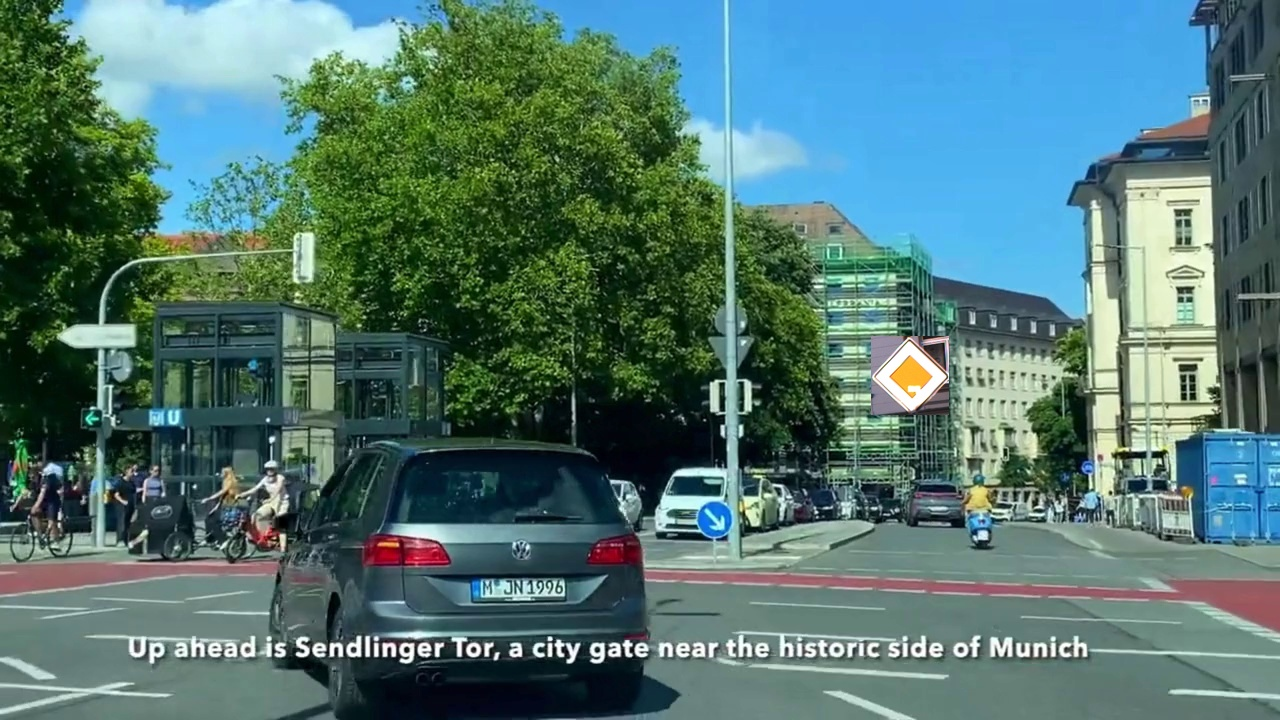Priority road: (871, 336, 949, 415)
